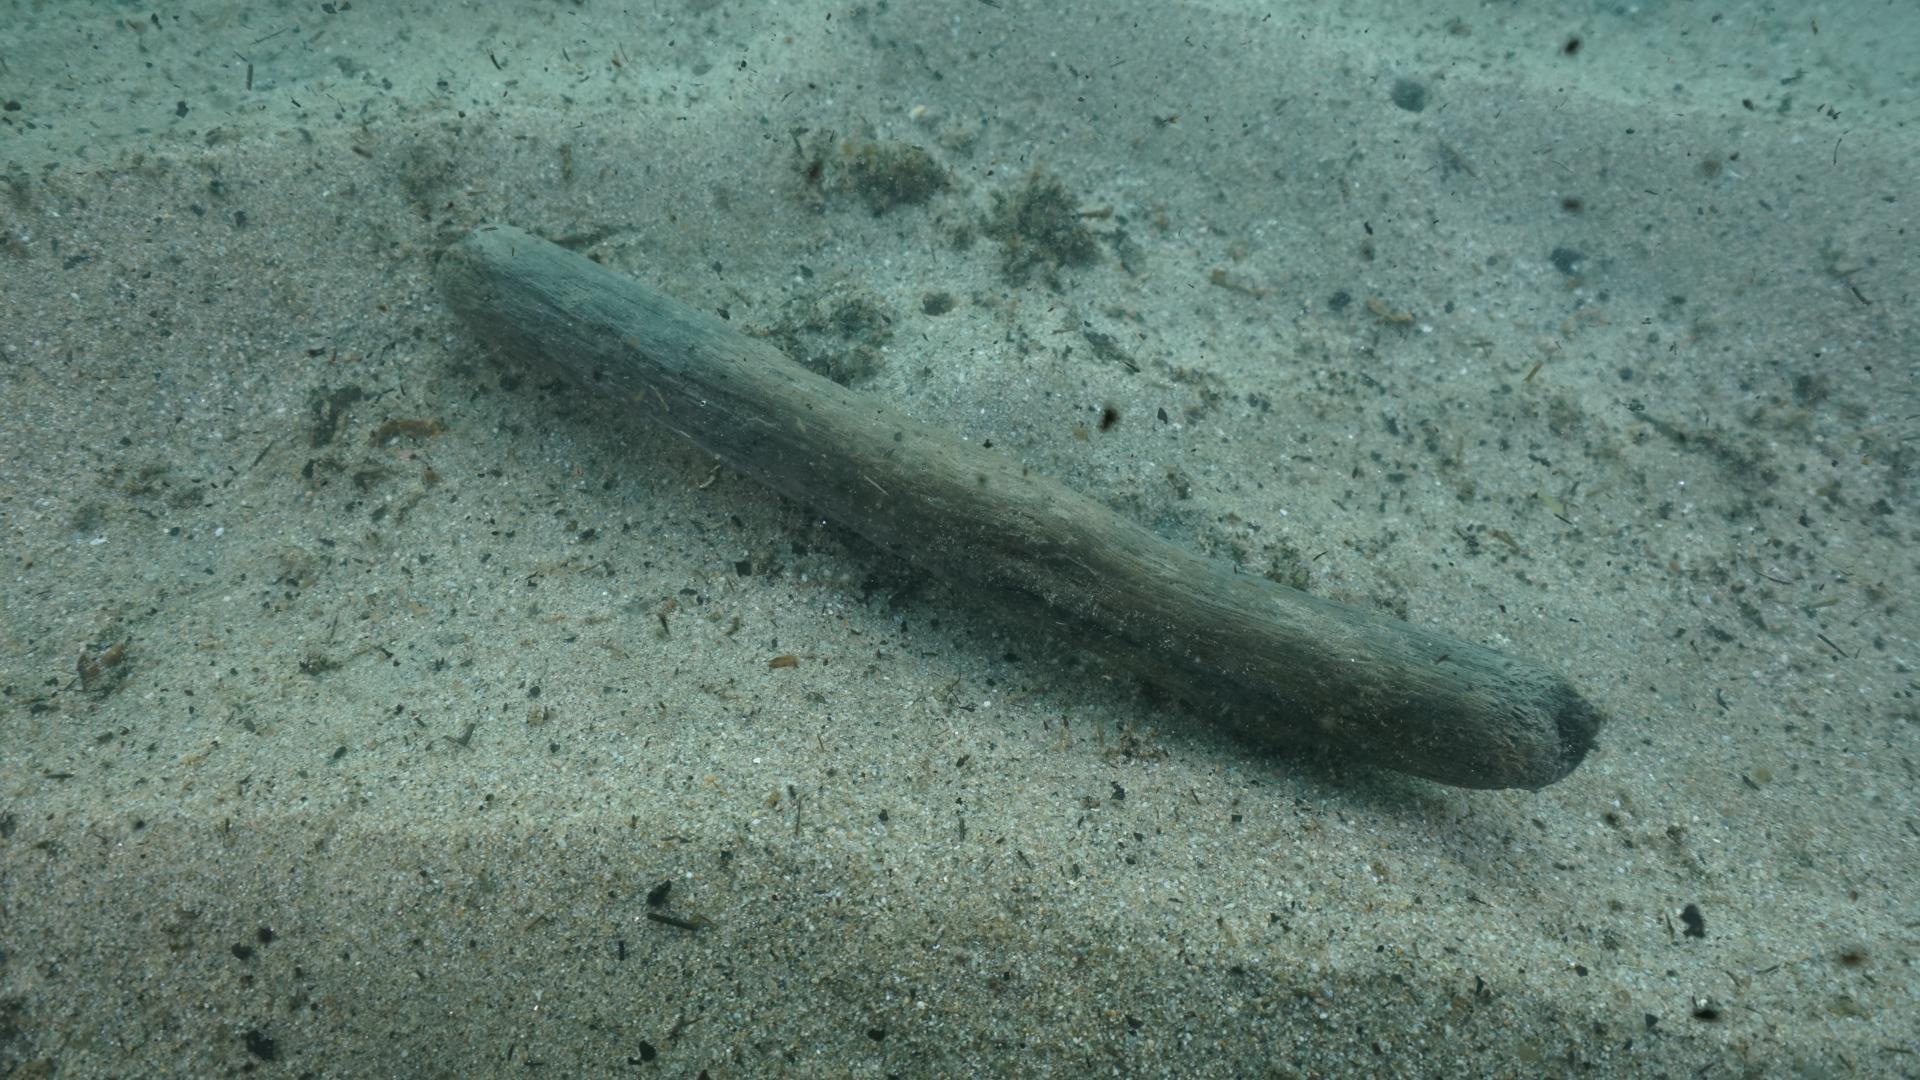wood: (429, 220, 1600, 793)
